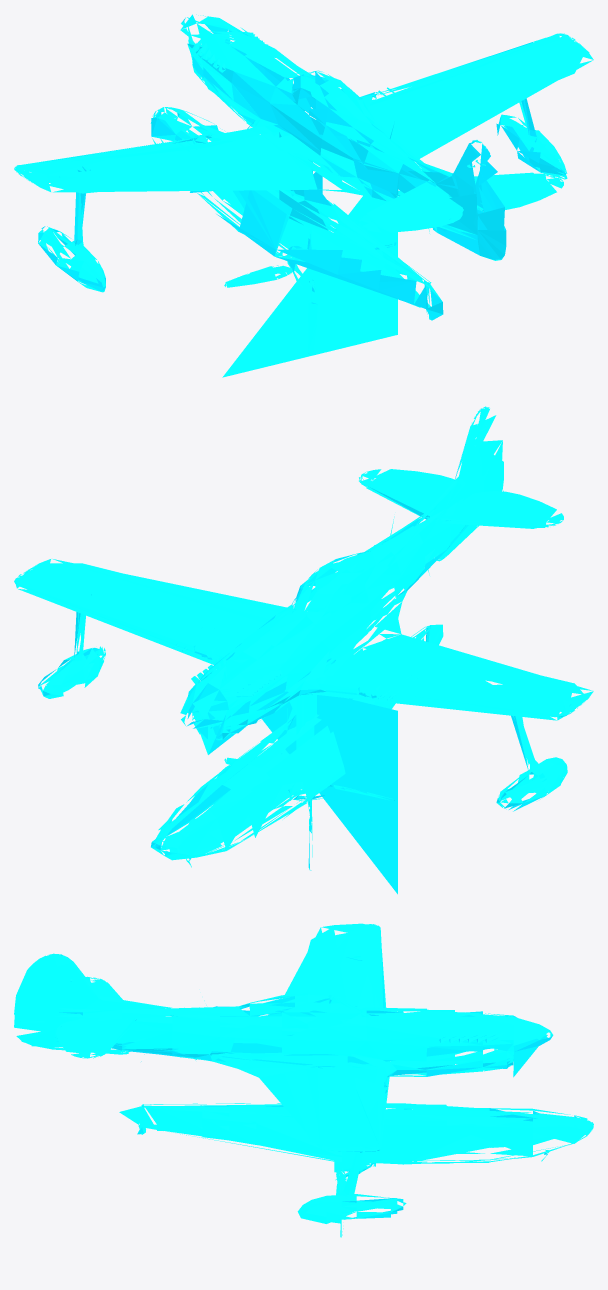
Rendered from PVAF008.glb.
3 renders of one model, top to bottom at view 1: azimuth 30°, elevation 25°; view 2: azimuth 150°, elevation 25°; view 3: azimuth 270°, elevation 25°, orthographic. The views are drawn at different scales.
Parts seen in each view (by area): view 1: misc; view 2: misc; view 3: misc.
Boxes of the visible parts, box(x1,y1,x2,y2) form: misc: box(14, 14, 593, 377); misc: box(14, 406, 593, 894); misc: box(14, 923, 593, 1237).
Bounding box in the file's own units: 0.7173 × 0.4194 × 0.7716.
